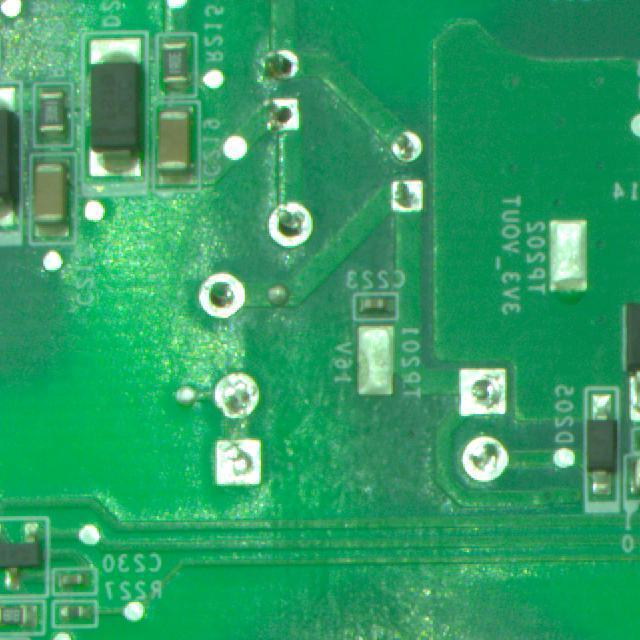Insufficient solder: (206, 432, 276, 509), (184, 266, 252, 329), (452, 420, 515, 487), (441, 364, 512, 420), (206, 368, 264, 426), (263, 195, 323, 250), (370, 120, 434, 168), (254, 90, 305, 147), (256, 38, 307, 87), (388, 168, 434, 219)
